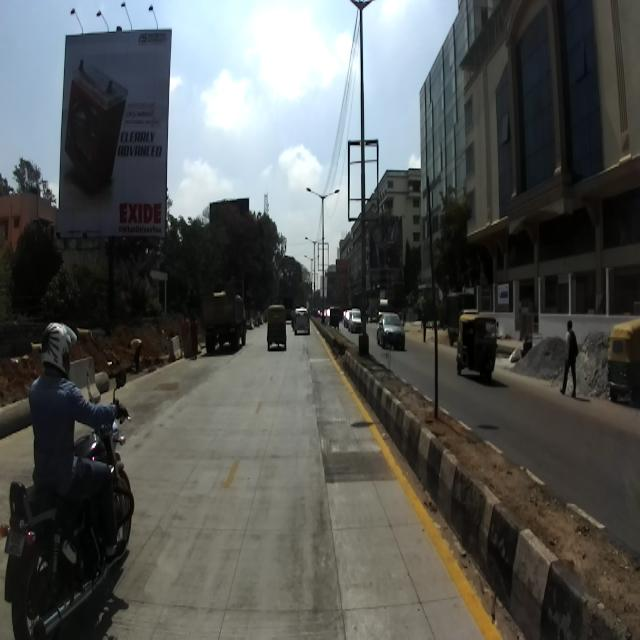motorcycle ahead at: (1, 454, 133, 640)
